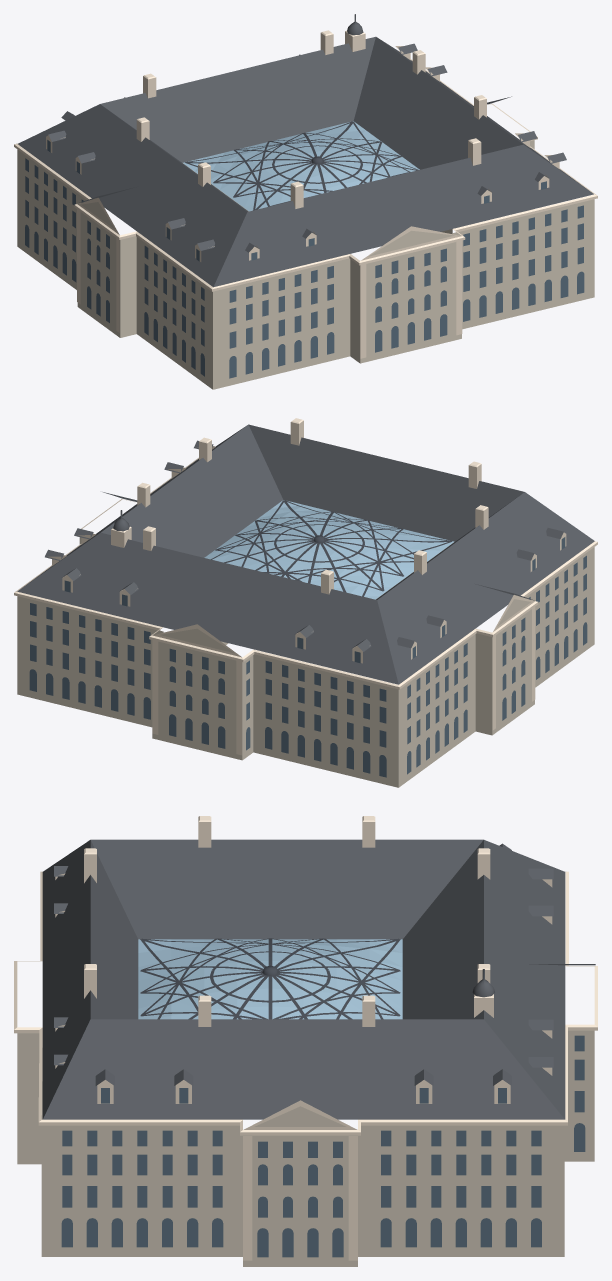
File: amsterdam-scheepvaartmuseum.glb
3 views of the same model, one above another, from view 1: azimuth 30°, elevation 25°; view 2: azimuth 150°, elevation 25°; view 3: azimuth 270°, elevation 25° (orthographic). The views are drawn at different scales.
Parts seen in each view (by area): view 1: Het Scheepvaartmuseum; view 2: Het Scheepvaartmuseum; view 3: Het Scheepvaartmuseum.
Boxes of the visible parts, box(x1,y1,x2,y2) form: Het Scheepvaartmuseum: box(14, 14, 597, 389); Het Scheepvaartmuseum: box(14, 418, 597, 787); Het Scheepvaartmuseum: box(14, 816, 597, 1266).
Bounding box in the file's own units: 70.5 × 29 × 64.1.
